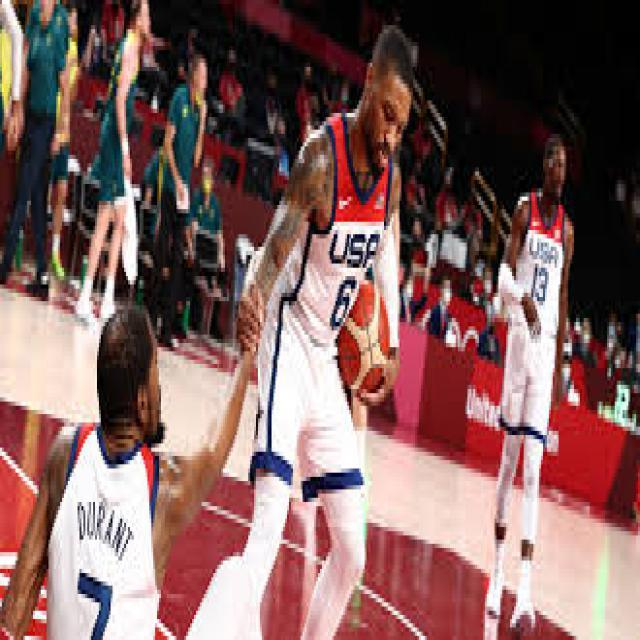basketball: (335, 276, 390, 402)
